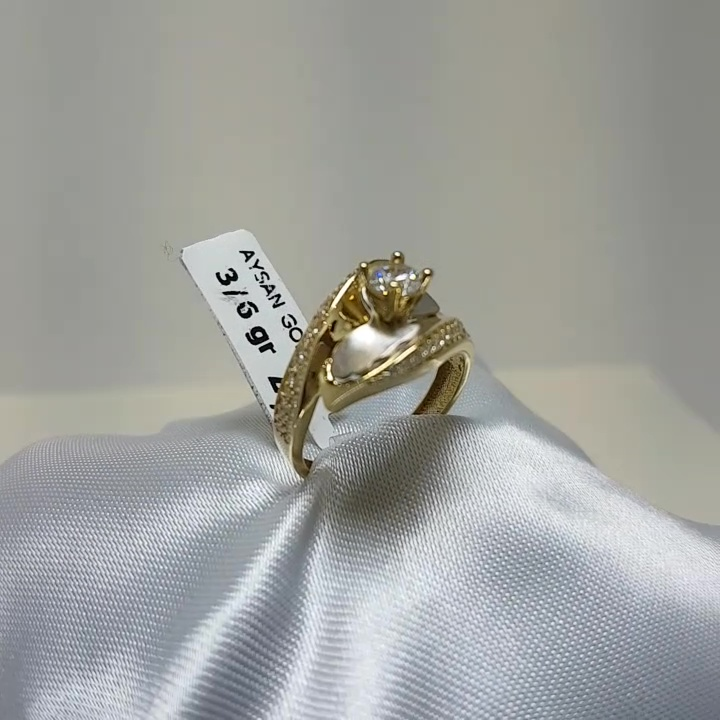Ring 6: (258, 237, 470, 514)
